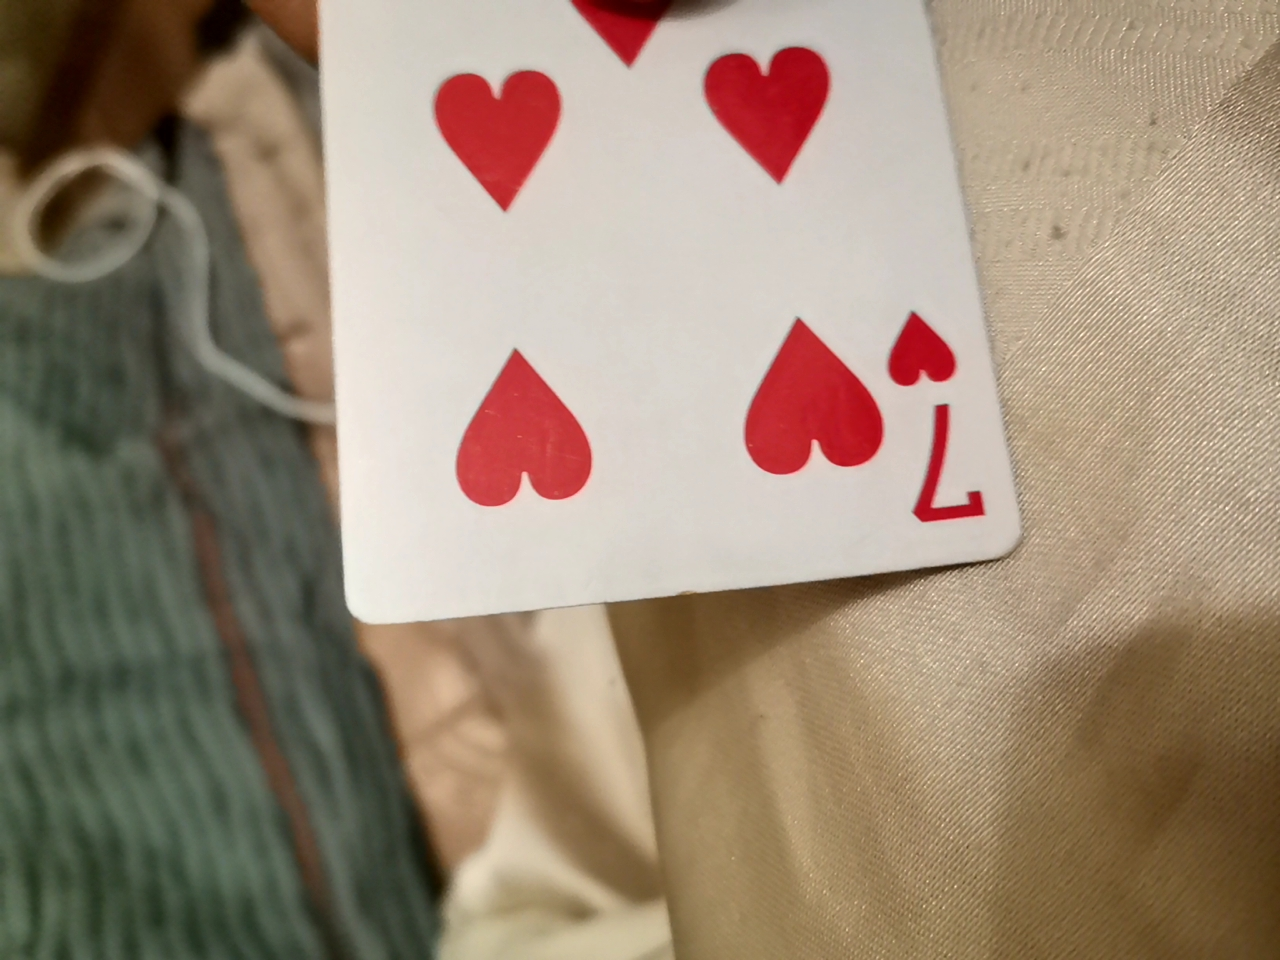hx 7: (294, 0, 1015, 640)
